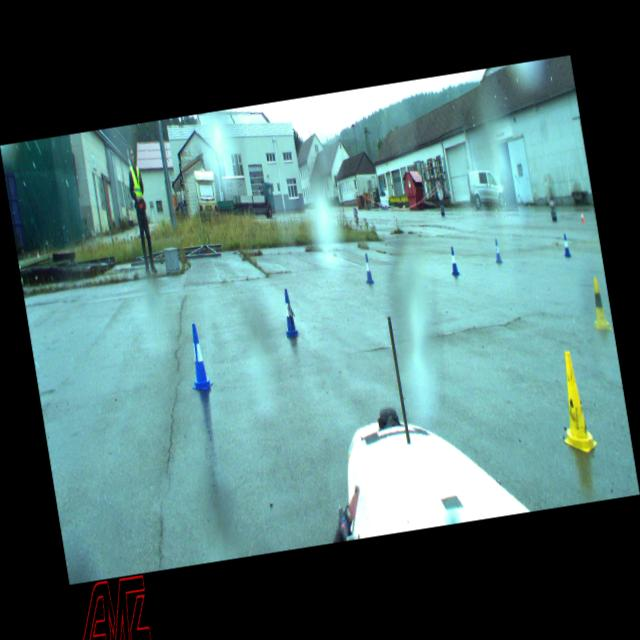blue_cone: (183, 322, 214, 392), (279, 288, 299, 339), (361, 252, 375, 286), (448, 246, 461, 276), (493, 238, 503, 264), (562, 233, 572, 258)
orange_cone: (580, 210, 585, 223)
yellow_cone: (550, 348, 598, 456), (587, 276, 612, 332)
